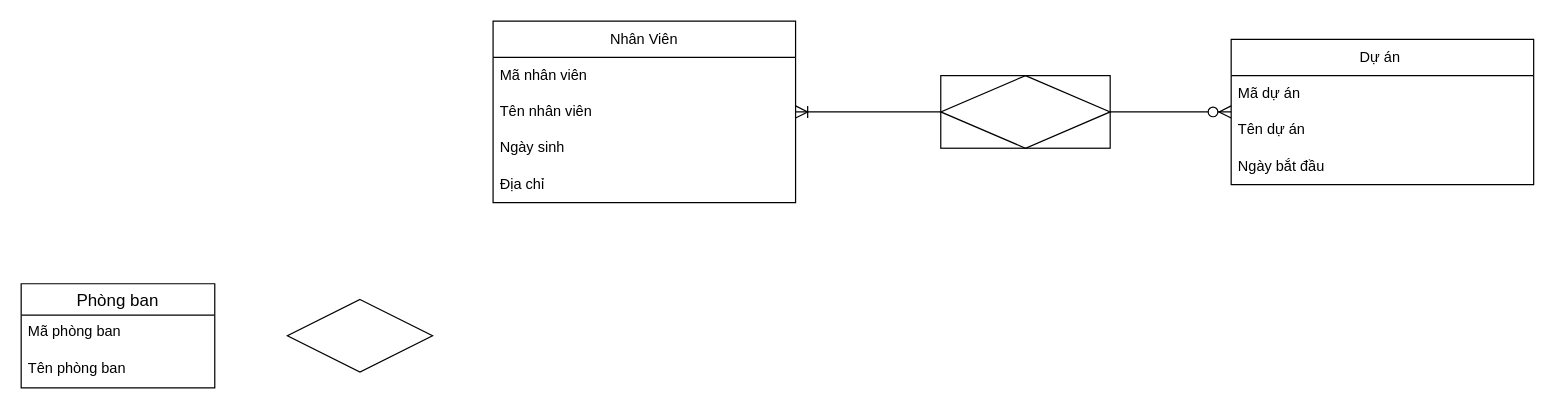
The diagram is 1555 pixels wide and 413 high, and some of its shapes have lost their labels. The shapes that lost their labels are listed below. From the top down, each one's centre as x and y in pixels, then its label:
At pixel 1025 111: "Tham gia".
At pixel 359 335: "Thuộc".
